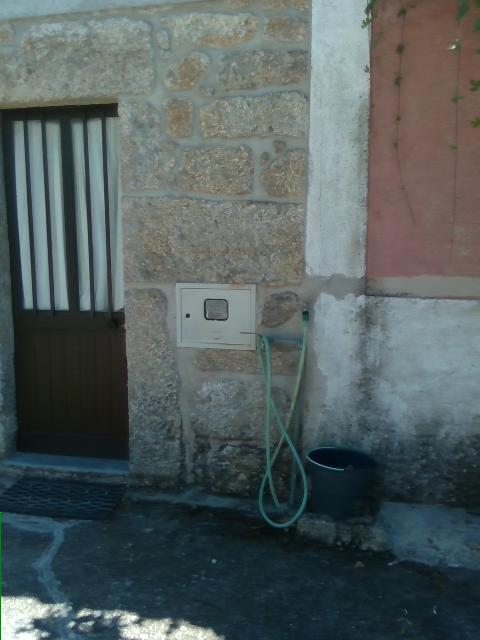door: (0, 95, 128, 472)
